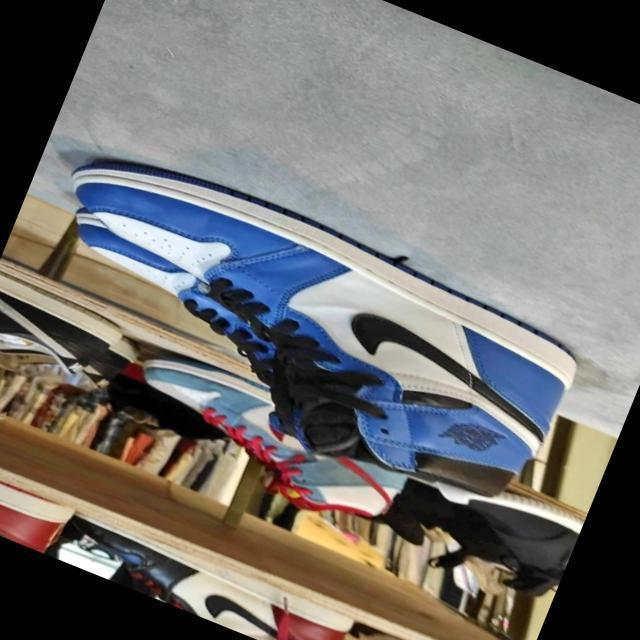nike fake jordan 1: (0, 119, 605, 536), (117, 342, 416, 542)
